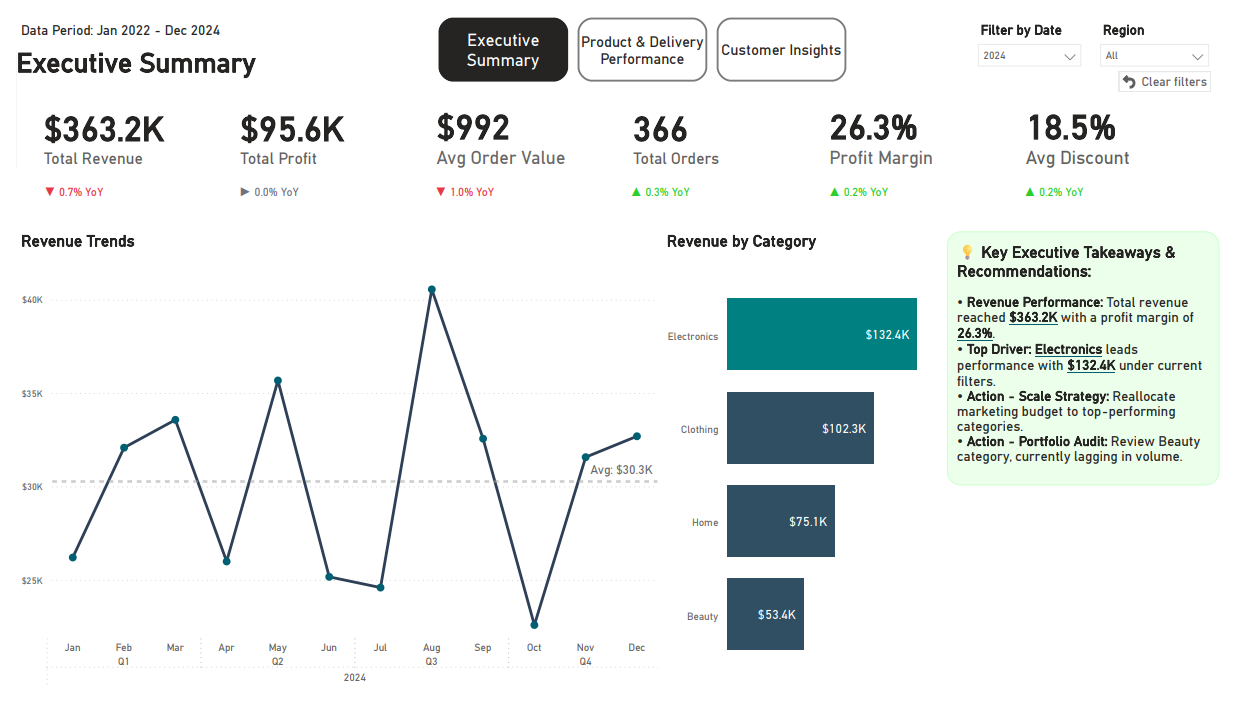

The page's visual inventory and layout, read from the dashboard file:
{"tool":"powerbi","page":{"name":"Executive Summary","canvas":[1280,720],"ordinal":0},"visuals":[{"type":"cardVisual","fields":{"Data":["_Measures.Total Revenue","_Measures.Total Gross Profit","ecommerce_sales_analytics_5000.Average_Order_Value","_Measures.Total Orders","ecommerce_sales_analytics_5000.Profit_Margin","ecommerce_sales_analytics_5000.Average_Discount"]},"box":[0,78.6,1280,98.6],"z":0},{"type":"cardVisual","fields":{"Data":["Fact_Sales.Revenue_YoY_Formatted"]},"box":[0,160,204,48],"z":1000},{"type":"lineChart","title":"Revenue Trends","fields":{"Category":["Dim_Calendar.Year","Dim_Calendar.Quarter","Dim_Calendar.MonthName"],"Y":["Fact_Sales.Total Revenue"]},"box":[0,226.7,686.7,493.3],"z":2000},{"type":"barChart","title":"Revenue by Category","fields":{"Category":["Dim_Category.product_category1"],"Y":["Sum(ecommerce_sales_analytics_5000.revenue)"]},"box":[686.7,226.7,303.3,493.3],"z":3000},{"type":"textbox","box":[0,31.4,321.4,37.1],"z":4000},{"type":"textbox","box":[0,0,227.1,29.7],"z":5000},{"type":"actionButton","box":[1172.9,57.1,97.9,21.4],"z":6000},{"type":"textbox","box":[990,226.7,290,270],"z":7000},{"type":"slicer","fields":{"Values":["Dim_Calendar.Year","Dim_Calendar.MonthName"]},"box":[1012.5,0,130,56.9],"z":8000},{"type":"slicer","fields":{"Values":["Dim_Customer.region"]},"box":[1142.5,0,136.9,55.4],"z":9000},{"type":"cardVisual","fields":{"Data":["_Measures.Profit YoY Formatted"]},"box":[207.9,160,218.4,47.9],"z":10000},{"type":"pageNavigator","box":[449.2,0,433.8,67.5],"z":11000},{"type":"cardVisual","fields":{"Data":["_Measures.Orders YoY Formatted"]},"box":[624,160,188.9,47.9],"z":12000},{"type":"cardVisual","fields":{"Data":["_Measures.AOV YoY Formatted"]},"box":[416.2,160,204,48],"z":14000},{"type":"cardVisual","fields":{"Data":["_Measures.Profit Margin YoY Formatted"]},"box":[835,160,188.9,47.9],"z":15000},{"type":"cardVisual","fields":{"Data":["_Measures.Avg Discount YoY Formatted"]},"box":[1043,160,188.9,47.9],"z":16000}]}

Visuals, with their boxes in screenshot pixels (x1, y1, x2, y2), scaled from the page's 1280x720 canvas onto the 1236x711 screenshot:
cardVisual - _Measures.Total Revenue x _Measures.Total Gross Profit: x1=0 y1=78 x2=1235 y2=175
cardVisual - Fact_Sales.Revenue_YoY_Formatted: x1=0 y1=158 x2=197 y2=205
"Revenue Trends" lineChart: x1=0 y1=224 x2=663 y2=710
"Revenue by Category" barChart: x1=663 y1=224 x2=956 y2=710
textbox: x1=0 y1=31 x2=310 y2=68
textbox: x1=0 y1=0 x2=219 y2=29
actionButton: x1=1133 y1=56 x2=1227 y2=78
textbox: x1=956 y1=224 x2=1235 y2=490
slicer - Dim_Calendar.Year x Dim_Calendar.MonthName: x1=978 y1=0 x2=1103 y2=56
slicer - Dim_Customer.region: x1=1103 y1=0 x2=1235 y2=55
cardVisual - _Measures.Profit YoY Formatted: x1=201 y1=158 x2=412 y2=205
pageNavigator: x1=434 y1=0 x2=853 y2=67
cardVisual - _Measures.Orders YoY Formatted: x1=603 y1=158 x2=785 y2=205
cardVisual - _Measures.AOV YoY Formatted: x1=402 y1=158 x2=599 y2=205
cardVisual - _Measures.Profit Margin YoY Formatted: x1=806 y1=158 x2=989 y2=205
cardVisual - _Measures.Avg Discount YoY Formatted: x1=1007 y1=158 x2=1190 y2=205
